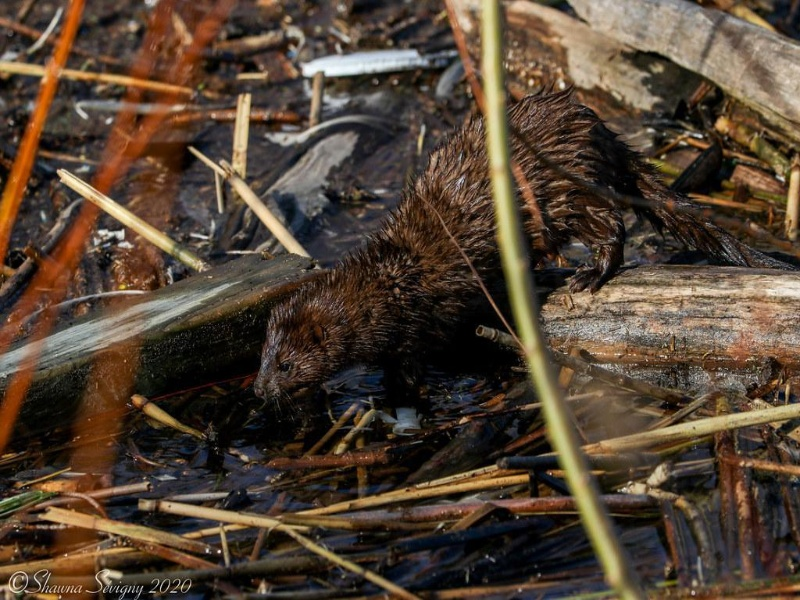minkish: (246, 87, 660, 412)
